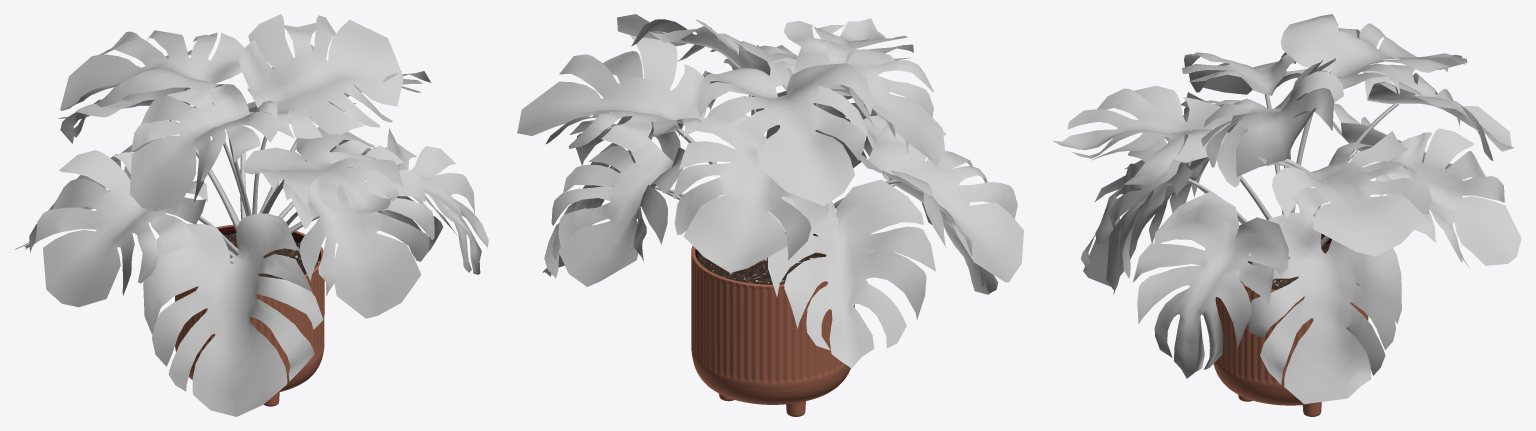
The picture shows the model from 3 angles, left to right: view 1: azimuth 30°, elevation 25°; view 2: azimuth 150°, elevation 25°; view 3: azimuth 270°, elevation 25°; orthographic projection. The views are drawn at different scales.
Visible parts, largest first — view 1: MONSTERA_BIG, B_TERRACOTTA_PLANTER_VAR02; view 2: MONSTERA_BIG, B_TERRACOTTA_PLANTER_VAR02; view 3: MONSTERA_BIG, B_TERRACOTTA_PLANTER_VAR02.
Boxes of the visible parts, <box> form: MONSTERA_BIG: <box>15,14,488,416</box>; B_TERRACOTTA_PLANTER_VAR02: <box>175,224,324,406</box>; MONSTERA_BIG: <box>517,14,1023,368</box>; B_TERRACOTTA_PLANTER_VAR02: <box>691,232,854,416</box>; MONSTERA_BIG: <box>1053,14,1521,404</box>; B_TERRACOTTA_PLANTER_VAR02: <box>1213,233,1368,416</box>.
Bounding box in the file's own units: 2.2 × 1.78 × 2.08.
